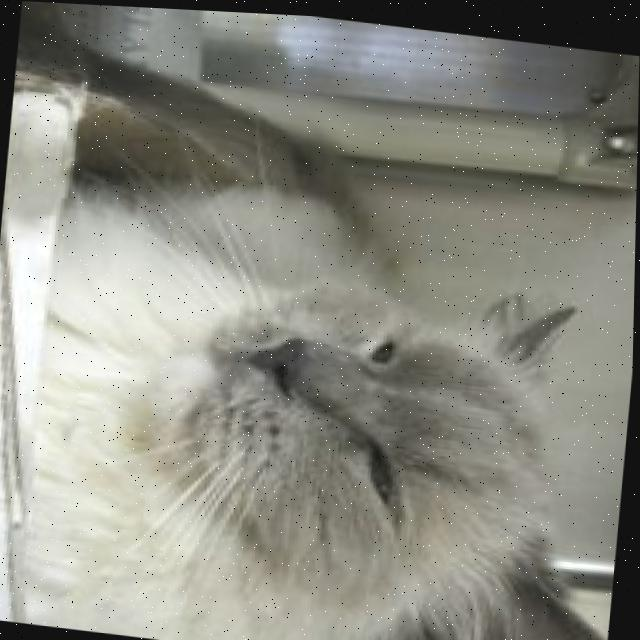Ragdoll: (8, 126, 638, 640)
